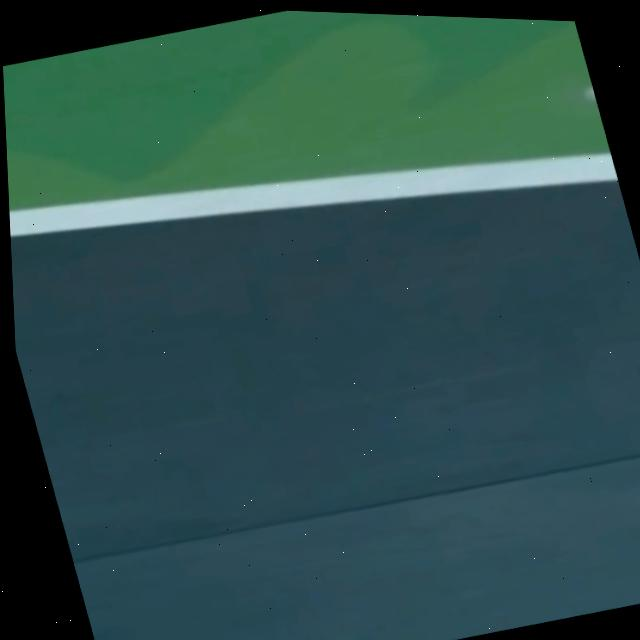right: (9, 153, 618, 237)
